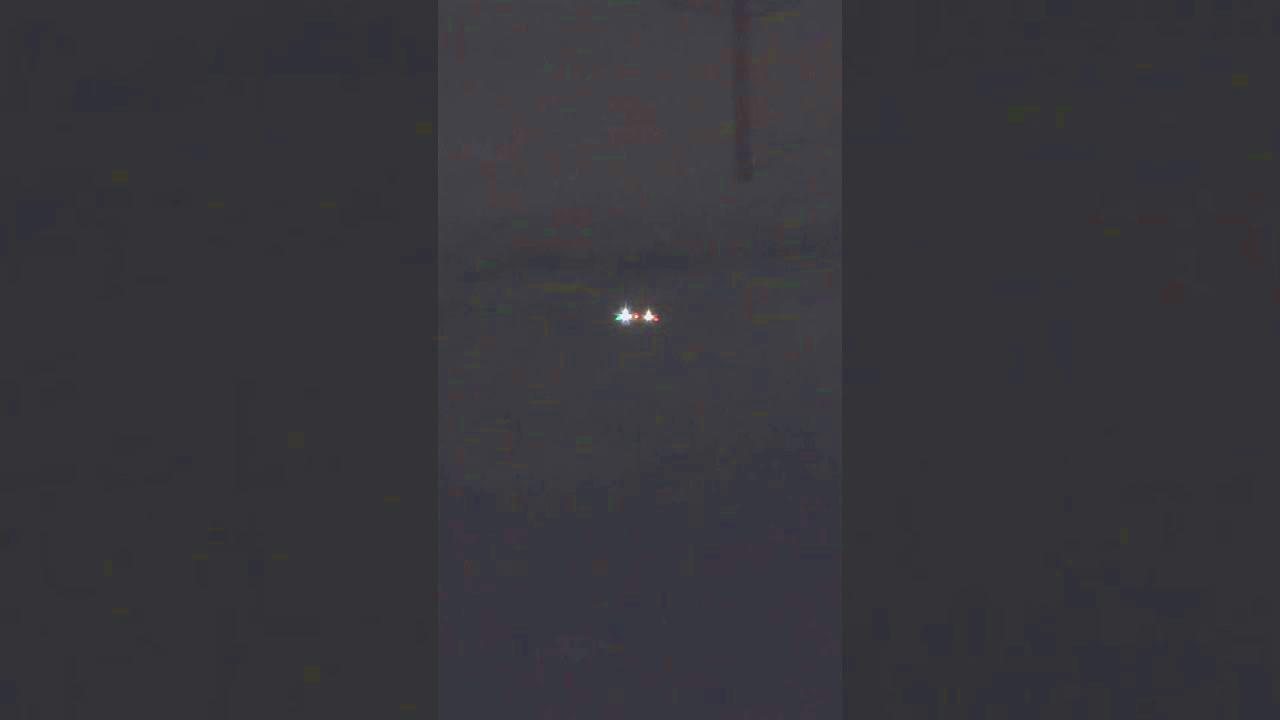Plane: (577, 290, 695, 344)
